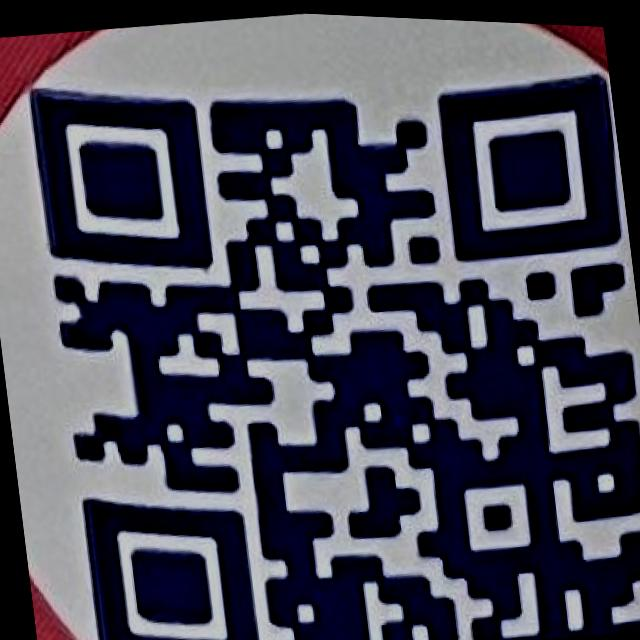QR_CODE: (28, 16, 640, 640)
